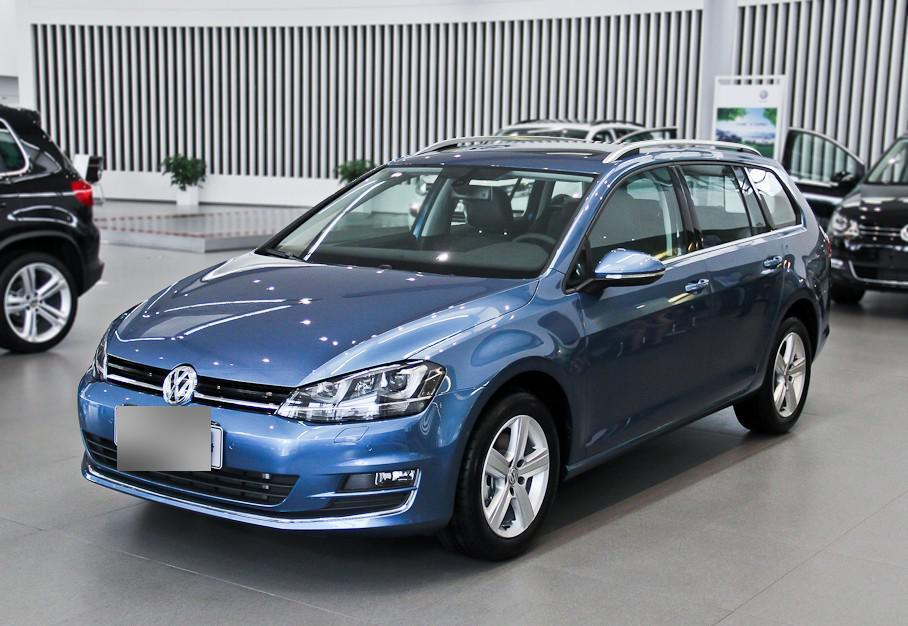Wagon: (77, 134, 832, 559)
